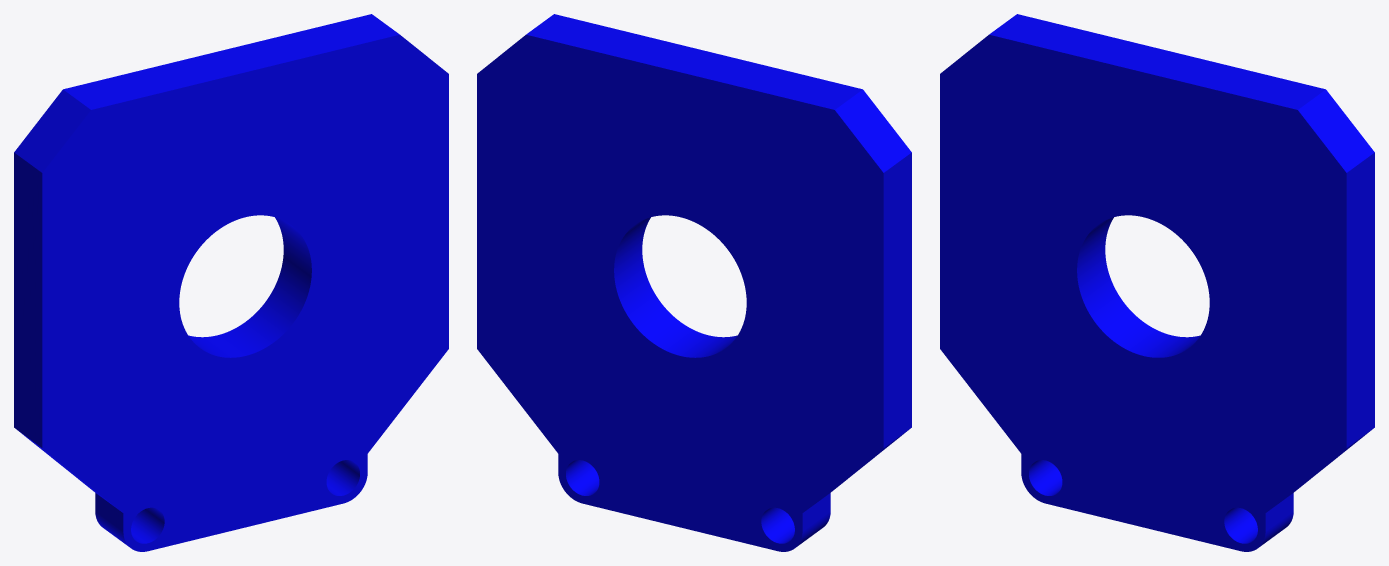
Rendered from Cube 1x1 V5_Filter Mount (SM05).obj.
The picture shows the model from 3 angles, left to right: view 1: azimuth 30°, elevation 25°; view 2: azimuth 150°, elevation 25°; view 3: azimuth 330°, elevation 25°; orthographic projection.
Parts seen in each view (by area): view 1: Solid1:21; view 2: Solid1:21; view 3: Solid1:21.
Boxes of the visible parts, x1=… form: Solid1:21: x1=14, y1=14, x2=448, y2=551; Solid1:21: x1=477, y1=14, x2=911, y2=551; Solid1:21: x1=940, y1=14, x2=1374, y2=551.
Bounding box in the file's own units: 41.6 × 44.5 × 5.
